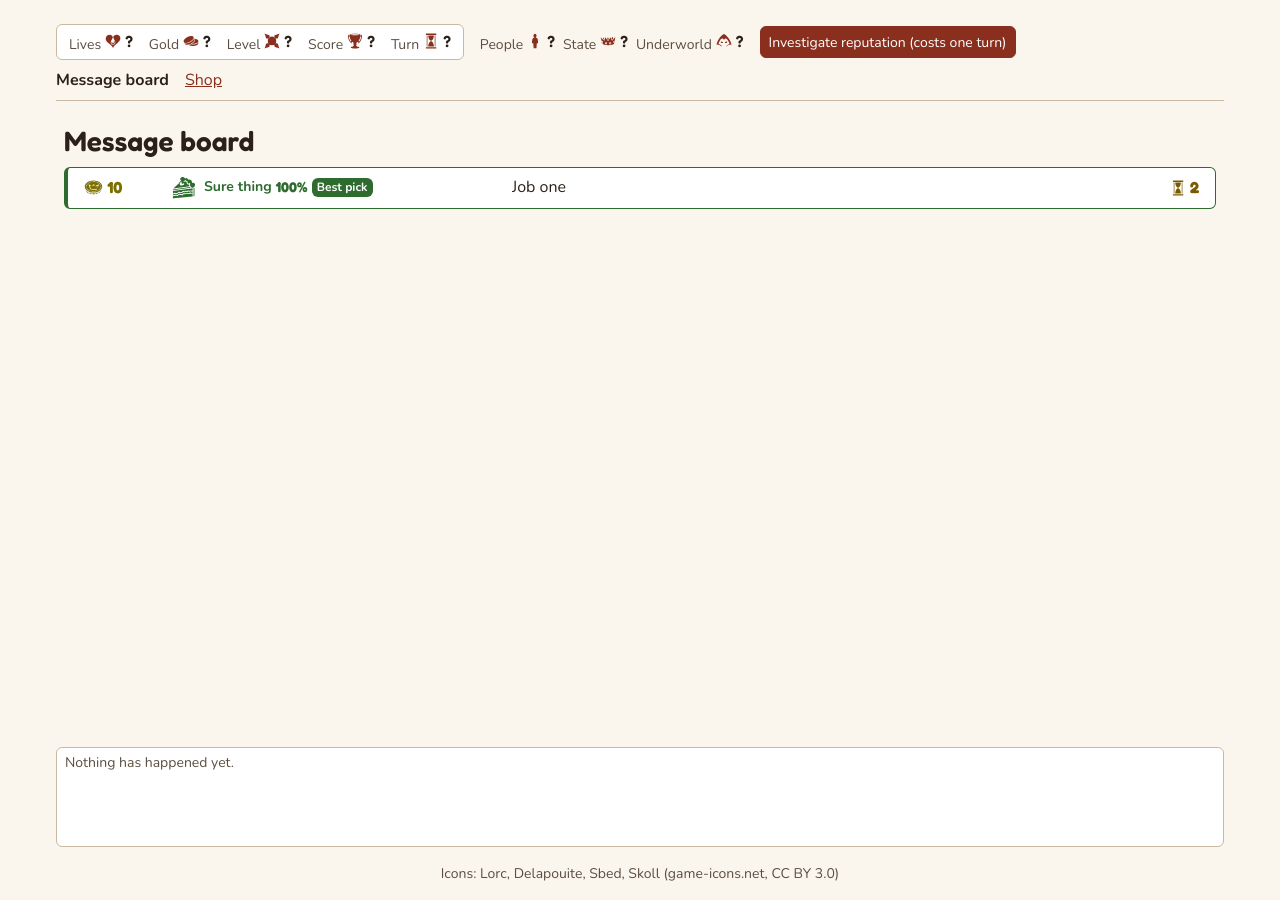
Scenario: game flow › routed panels and layout shell (AD-10, AD-14) › a failed turn shows the error alert in the game screen and logs nothing
Click the button "10 Sure thing 100% Best pick Job one 2": (105, 197) [64,167,1216,209]
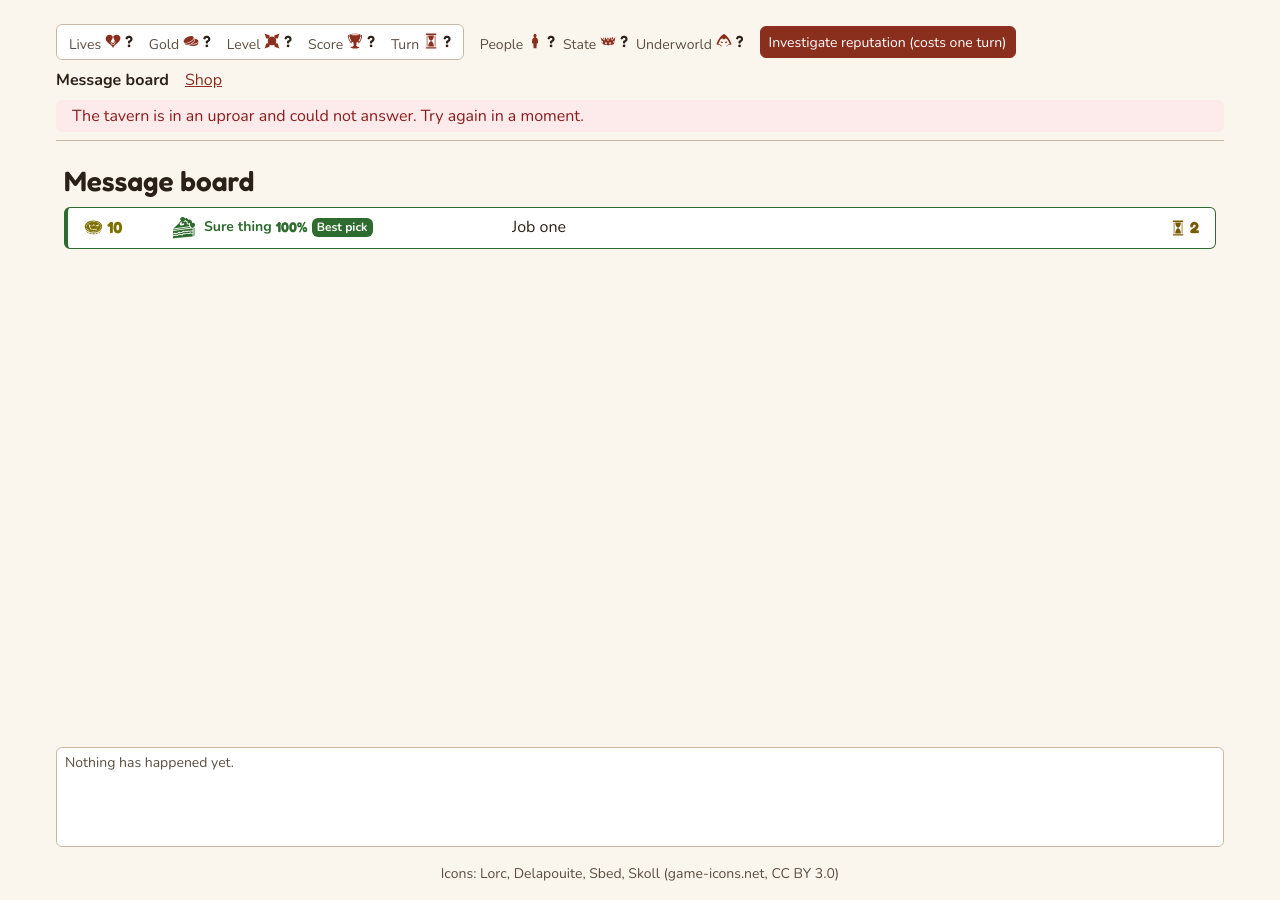
Result: the message "The tavern is in an uproar and could not answer. Try again in a moment." is shown at [56,100,1224,132]
